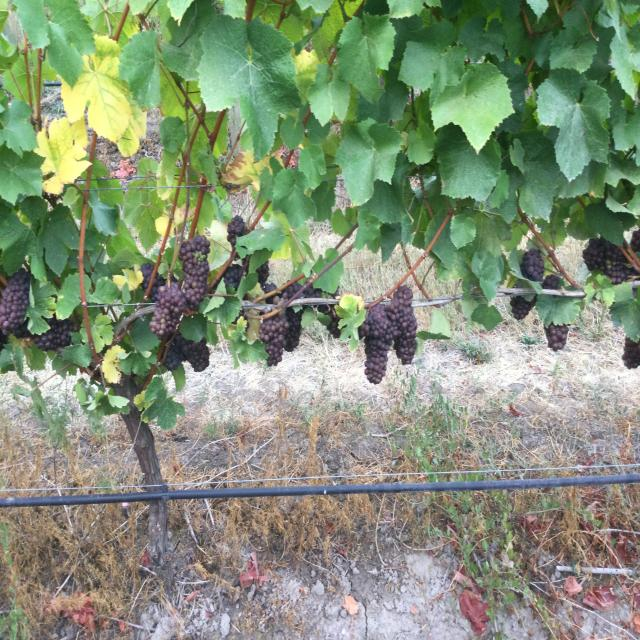grapes: (359, 287, 418, 383), (582, 238, 635, 285), (179, 235, 210, 312), (0, 268, 31, 338), (150, 282, 186, 340), (164, 332, 210, 372), (259, 315, 289, 367), (34, 317, 74, 352), (222, 255, 250, 290), (520, 248, 545, 282), (285, 308, 302, 352), (545, 323, 569, 352), (510, 295, 536, 320), (228, 215, 245, 247), (149, 273, 165, 302), (141, 263, 154, 292), (256, 262, 269, 287), (541, 273, 560, 290)
